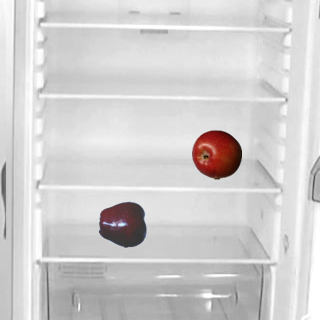Apple Braeburn: (191, 129, 241, 179)
Apple Red Delicious: (98, 199, 148, 249)
